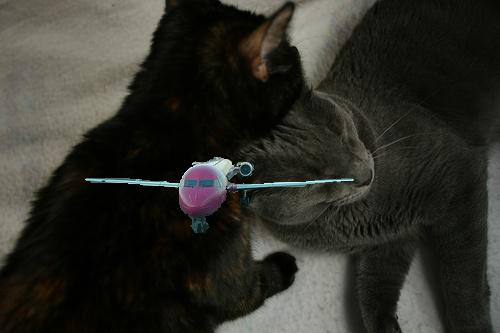tampered: (86, 158, 354, 233)
